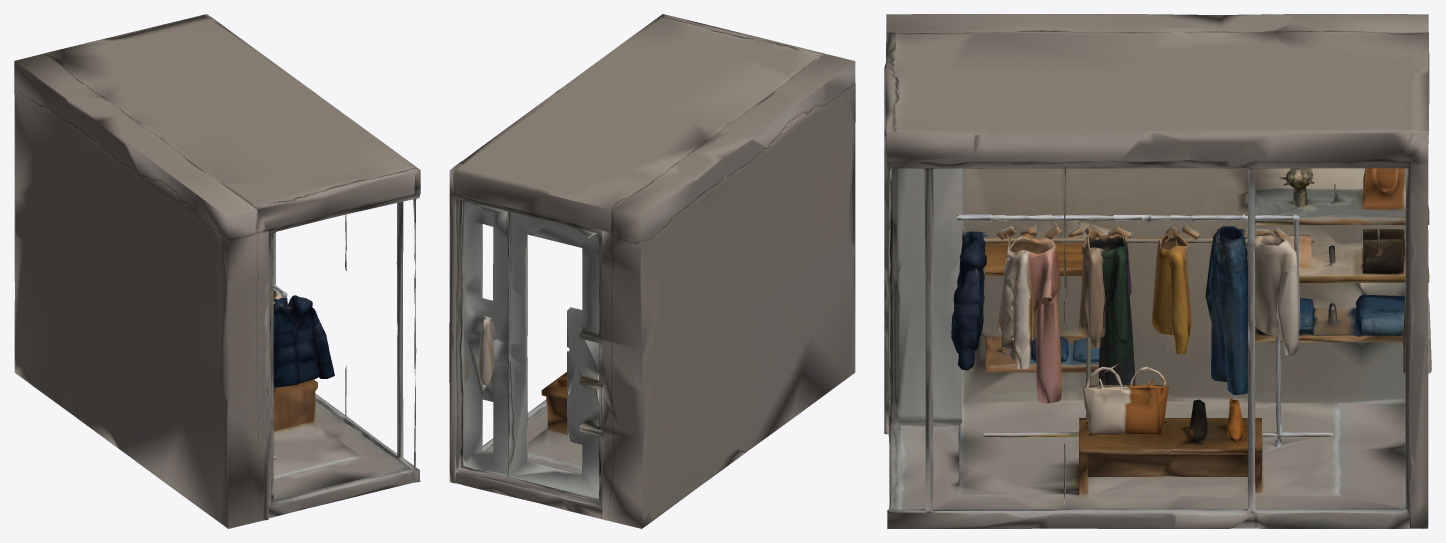
Rendered from frontclv.glb.
3 renders of one model, left to right at view 1: azimuth 30°, elevation 25°; view 2: azimuth 150°, elevation 25°; view 3: azimuth 270°, elevation 25°, orthographic. The views are drawn at different scales.
Visible parts, largest first — view 1: tripo_node_1101fbf4-2962-4fb8-ab8f-bee9e8e9e34c; view 2: tripo_node_1101fbf4-2962-4fb8-ab8f-bee9e8e9e34c; view 3: tripo_node_1101fbf4-2962-4fb8-ab8f-bee9e8e9e34c.
Part boxes in pixels (bbox=[...]): tripo_node_1101fbf4-2962-4fb8-ab8f-bee9e8e9e34c: bbox=[14, 14, 420, 528]; tripo_node_1101fbf4-2962-4fb8-ab8f-bee9e8e9e34c: bbox=[449, 14, 855, 528]; tripo_node_1101fbf4-2962-4fb8-ab8f-bee9e8e9e34c: bbox=[884, 14, 1431, 528].
Size of the model in its own units: 1.36 by 2.1 by 2.63.
1 material, 1 textured.
